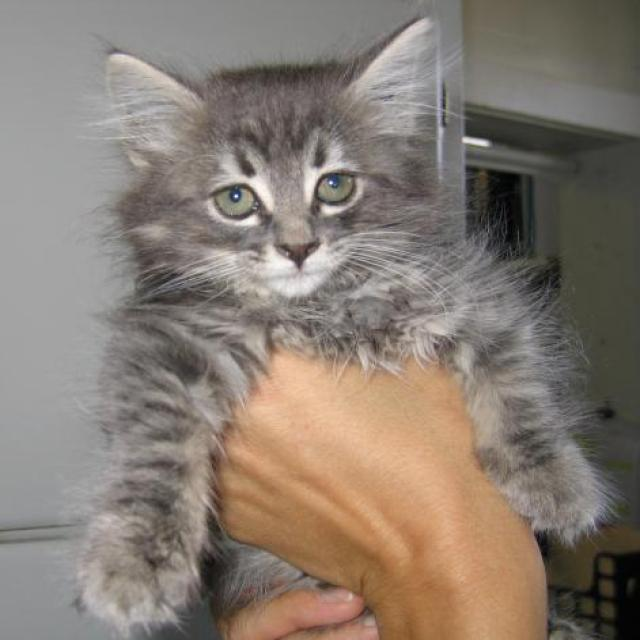Cats: (68, 13, 624, 639)
